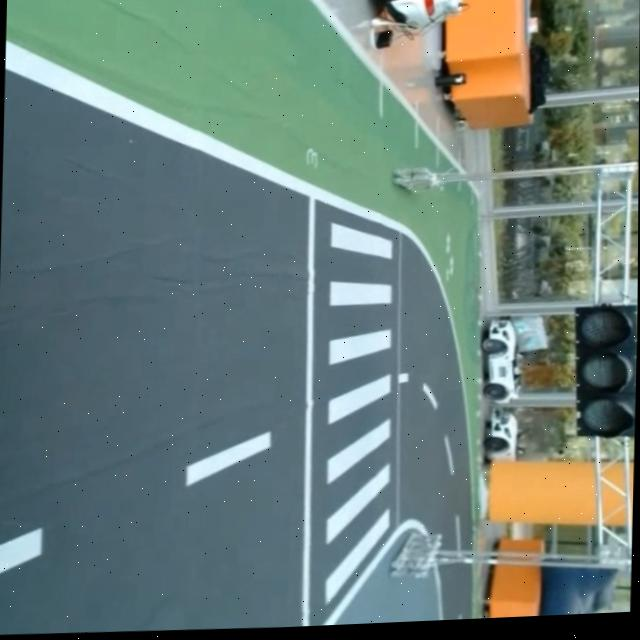traffic-light: (568, 294, 638, 448)
